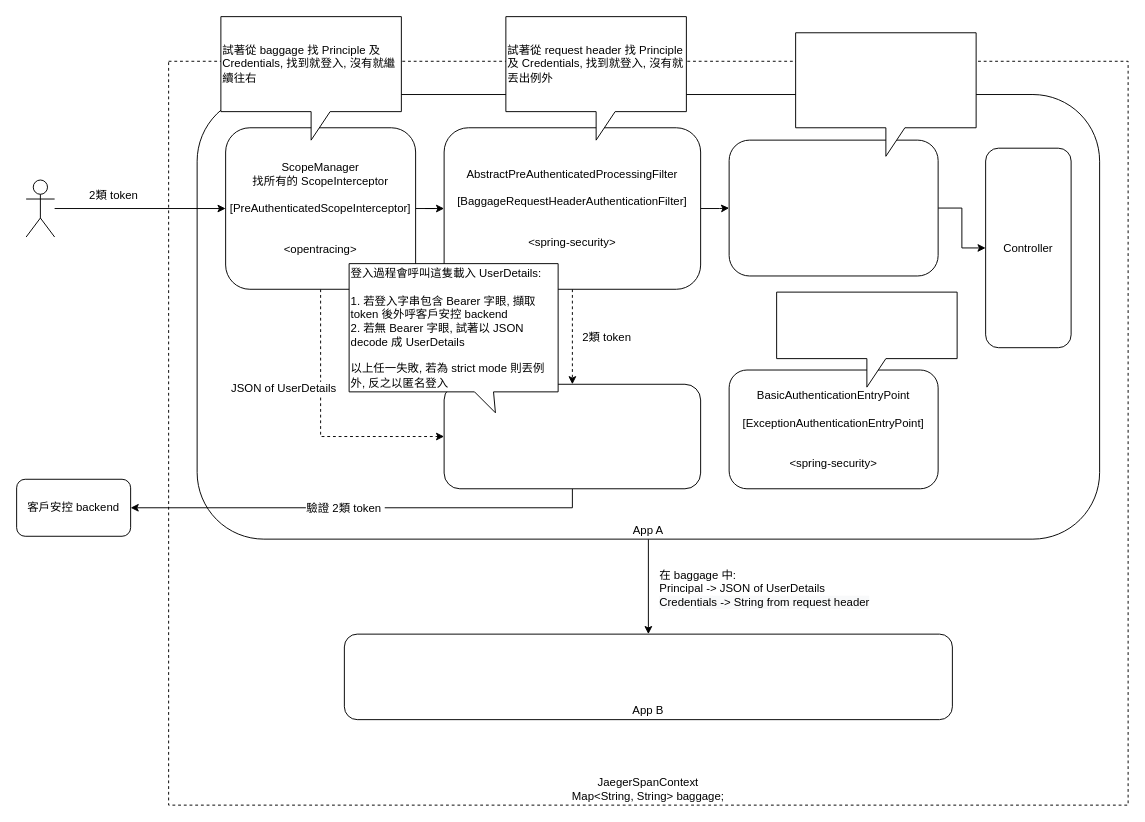
Image size: 1145x822. Some labels were removed from this diagram. Here are the shapes that lost their labels. From the top down, the box of each, then its label:
(795, 32, 976, 156): 登入成功後, 就把 UserDetails encode 成 JSON 後, 放入 baggage 往後傳播
(25, 179, 55, 237): Actor
(728, 139, 938, 276): AuthenticationSuccessHandler [PreAuthenticatedPropagation] <spring-security>
(776, 291, 957, 387): 登入過程中發生任何例外, 就會被這隻捕捉, 直接回傳錯誤結構
(443, 383, 701, 489): UserDetailsService [UserDetailsByUsernameService] <spring-security>
